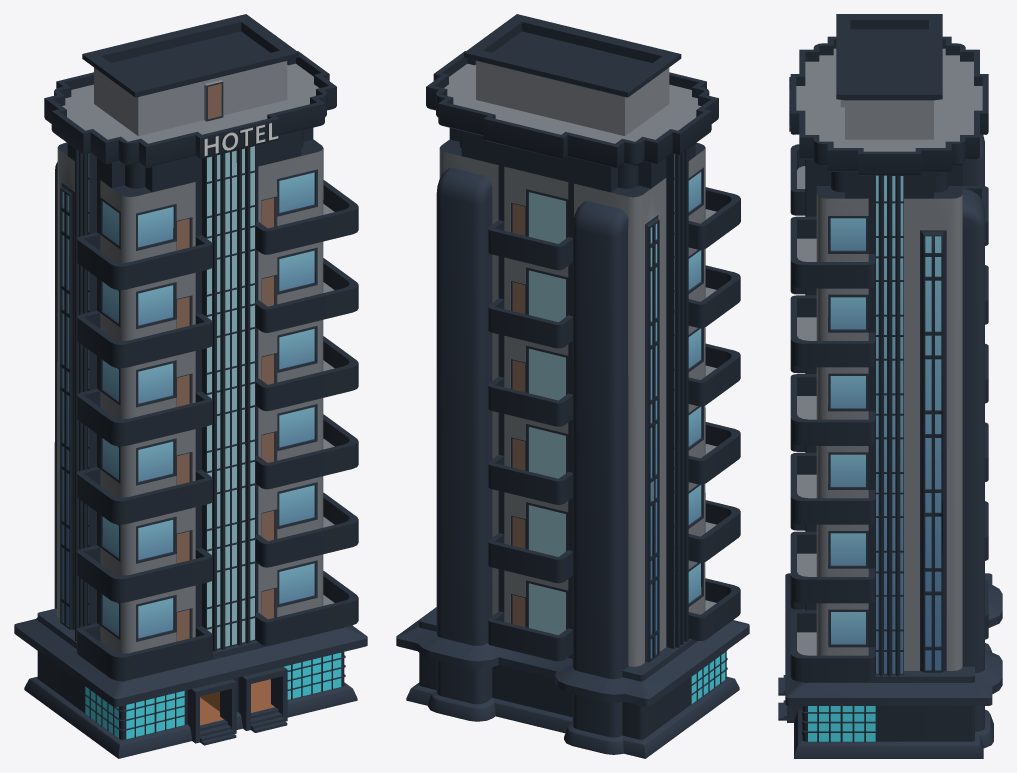
Rendered from SM_Buildings_Hotel_03.fbx.
The picture shows the model from 3 angles, left to right: view 1: azimuth 30°, elevation 25°; view 2: azimuth 150°, elevation 25°; view 3: azimuth 270°, elevation 25°; orthographic projection.
Visible parts, largest first — view 1: SM_Buildings_Hotel_03; view 2: SM_Buildings_Hotel_03; view 3: SM_Buildings_Hotel_03.
Part boxes in pixels (<box>): SM_Buildings_Hotel_03: <box>14,14,367,758</box>; SM_Buildings_Hotel_03: <box>396,14,749,758</box>; SM_Buildings_Hotel_03: <box>778,14,1002,758</box>.
Bounding box in the file's own units: 17 × 41.04 × 12.9.
